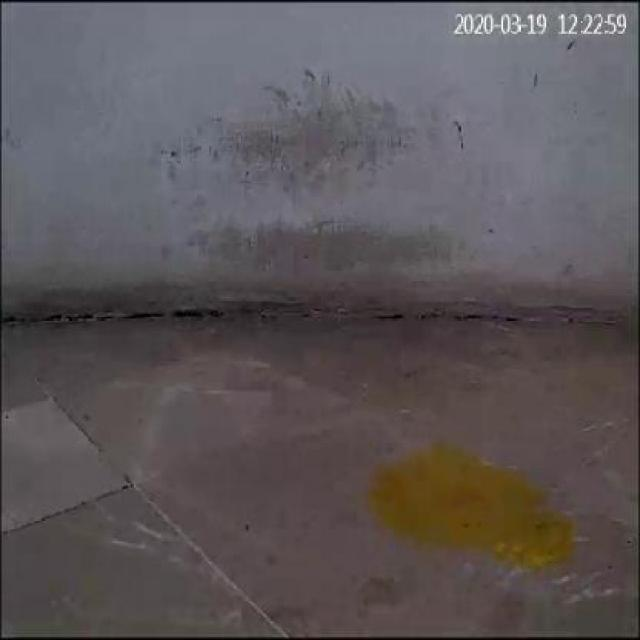spill: (376, 437, 582, 574)
